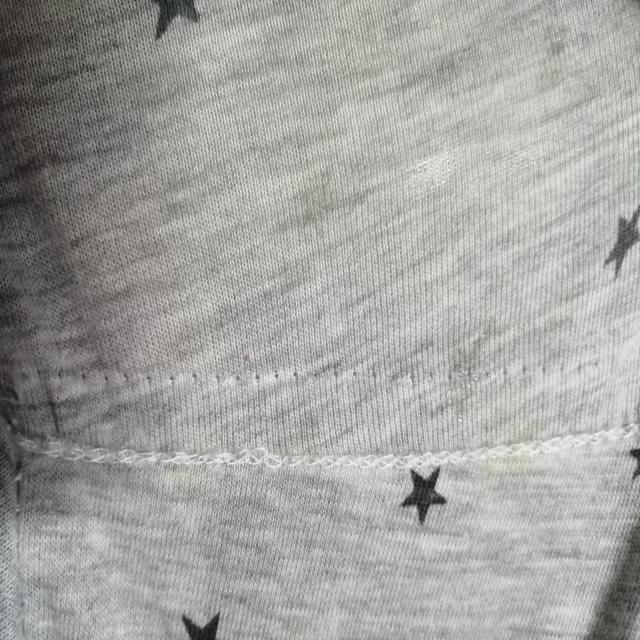gray stitch: (1, 415, 639, 478)
